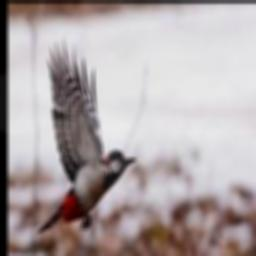Woodpecker: (37, 37, 136, 235)
